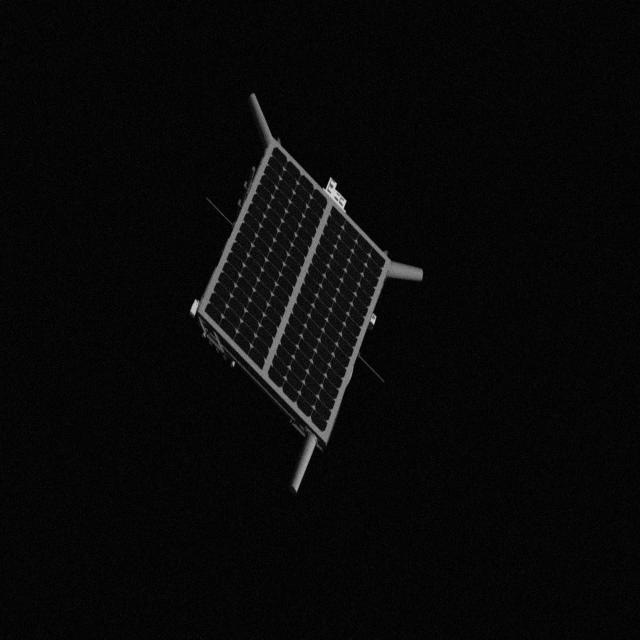satellite: (182, 90, 434, 502)
